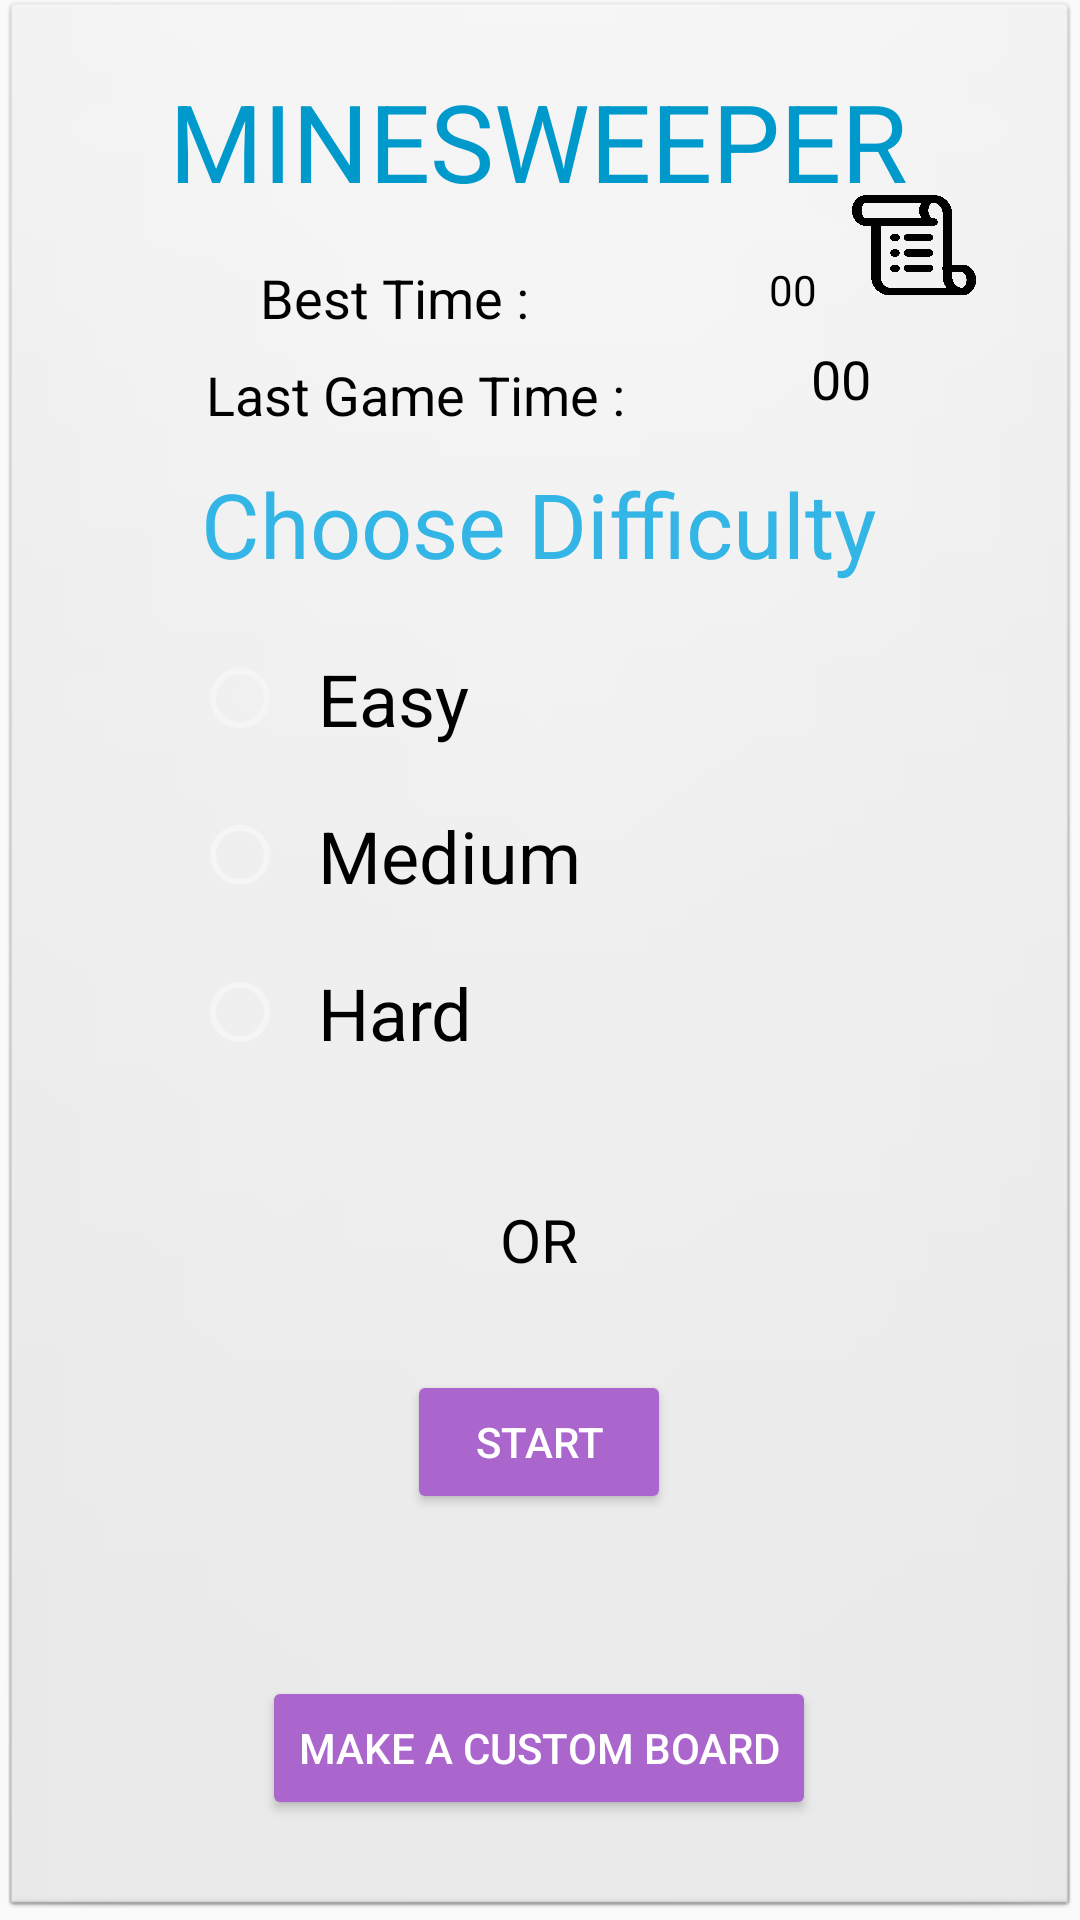

Icons on this 1080 x 1920 Android screen, each with its box as box(x1, y1, x2, y2):
rules: box(852, 195, 976, 295)
